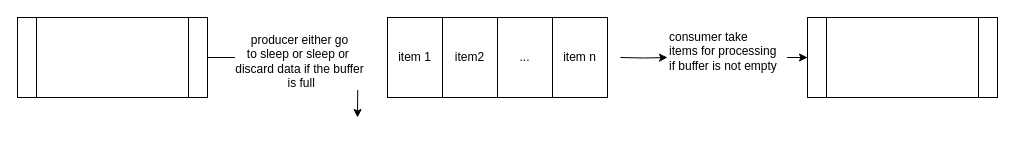
The diagram is 1015 pixels wide and 143 high, and some of its shapes have lost their labels. The box of each missing label's shape, as (x1, y1, x2, y2) in pixels:
consumer: (806, 16, 998, 98)
producer: (16, 16, 208, 98)
